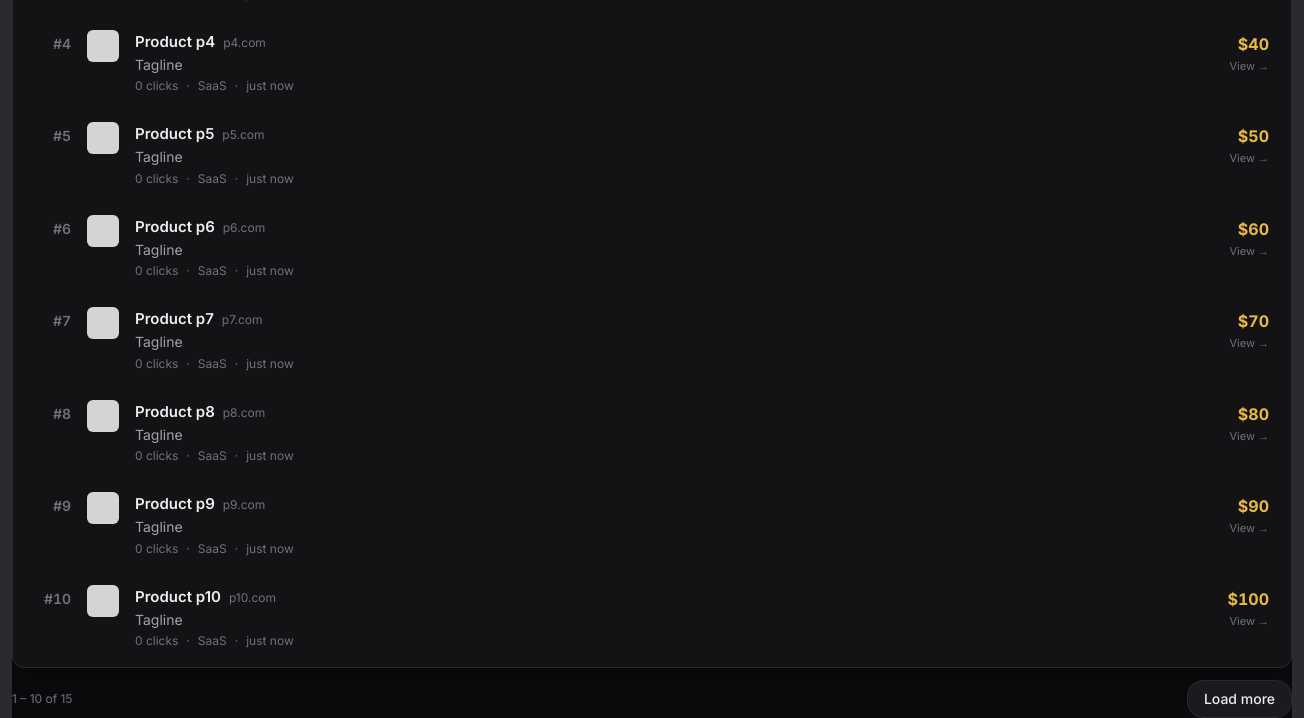
it: ProductInfiniteList › loads the next page when Load more is clicked
(page scrolled)
What coordinates should you click on to do the following:
click the button "Load more"
I would click on:
 (1239, 699)
Its box is [1187,680,1292,717].
(page scrolled)
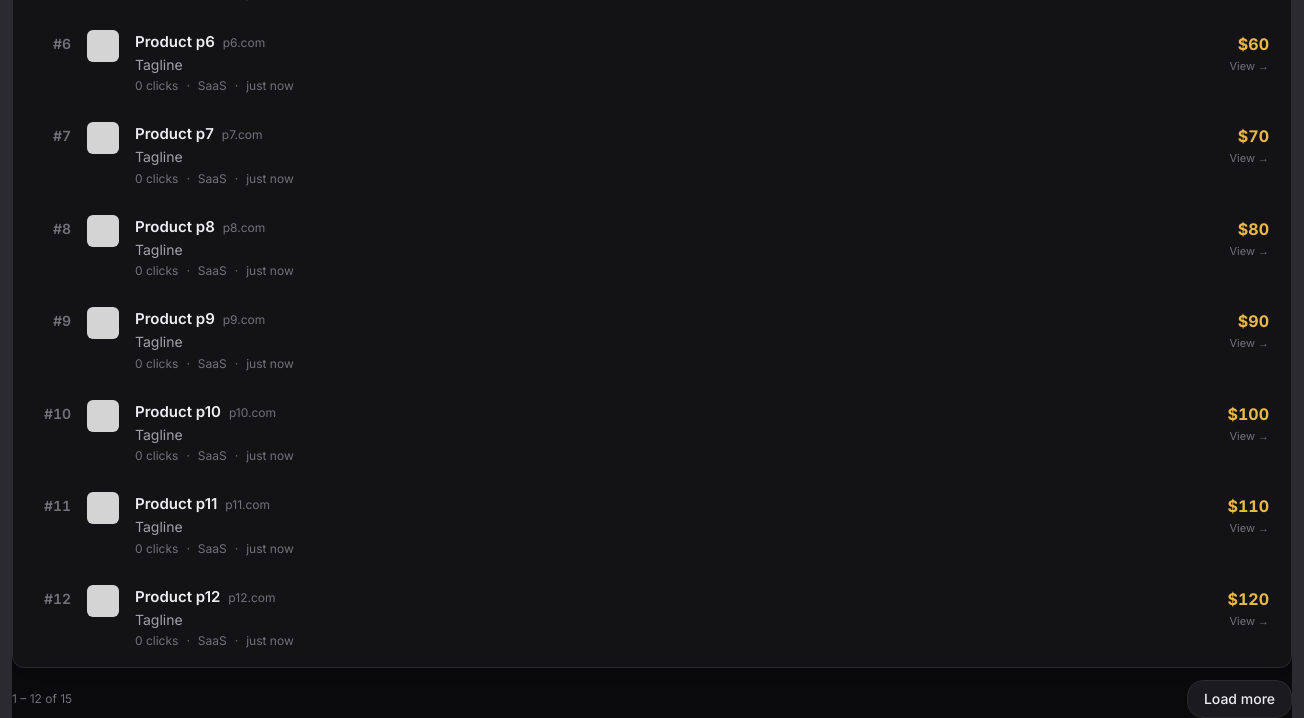
expect the text "Product p11" is shown: met, box [135,492,217,515]
expect the text "1 – 12 of 15" is shown: met, box [12,691,72,707]
